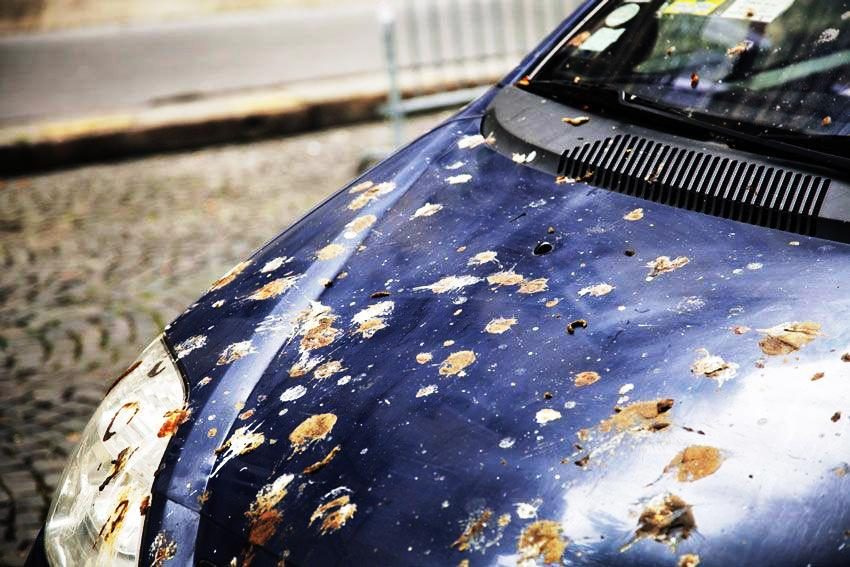Bird Poop: (255, 295, 341, 377), (572, 399, 673, 468), (228, 473, 298, 566), (649, 444, 727, 486), (631, 493, 696, 543), (210, 424, 265, 478), (733, 322, 821, 355), (452, 509, 510, 552), (308, 486, 357, 535), (519, 520, 566, 563), (289, 413, 336, 450), (99, 446, 134, 490), (102, 401, 139, 441), (352, 301, 393, 337), (692, 350, 738, 381), (347, 181, 394, 210), (486, 271, 547, 293), (100, 496, 128, 540), (210, 260, 250, 290), (415, 275, 481, 293), (305, 445, 340, 474), (248, 278, 293, 298), (648, 256, 688, 278), (157, 408, 187, 437), (439, 351, 475, 375), (726, 40, 755, 68), (151, 533, 174, 566), (173, 336, 206, 359), (459, 130, 498, 148), (217, 341, 250, 362), (345, 217, 375, 238), (313, 360, 341, 378), (258, 256, 288, 272), (485, 318, 516, 333), (814, 28, 839, 46), (535, 408, 560, 425), (468, 251, 496, 266), (280, 385, 305, 401), (413, 203, 441, 217), (582, 283, 612, 296), (318, 244, 344, 259), (575, 371, 599, 386), (515, 504, 537, 517), (147, 361, 164, 377), (513, 152, 536, 163), (416, 385, 436, 397), (534, 241, 552, 254), (679, 555, 699, 566), (625, 208, 643, 220), (195, 375, 213, 387), (448, 174, 471, 183), (239, 408, 255, 419), (498, 437, 514, 448), (140, 497, 149, 515), (417, 353, 431, 363)
